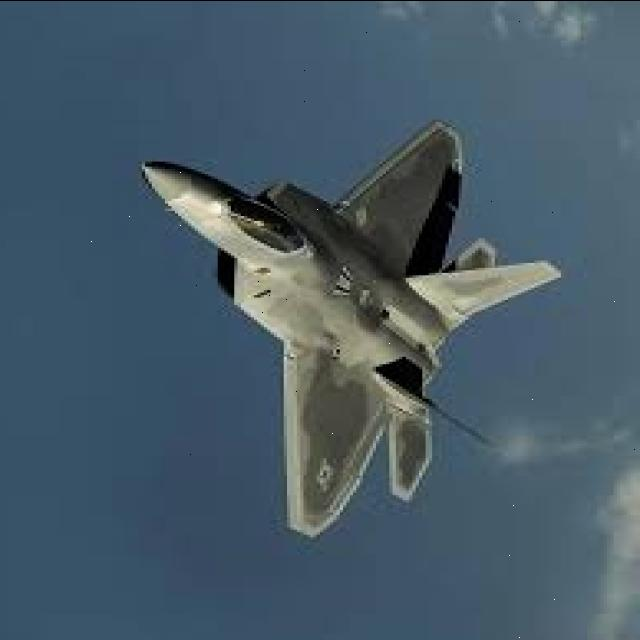F22: (96, 99, 600, 581)
